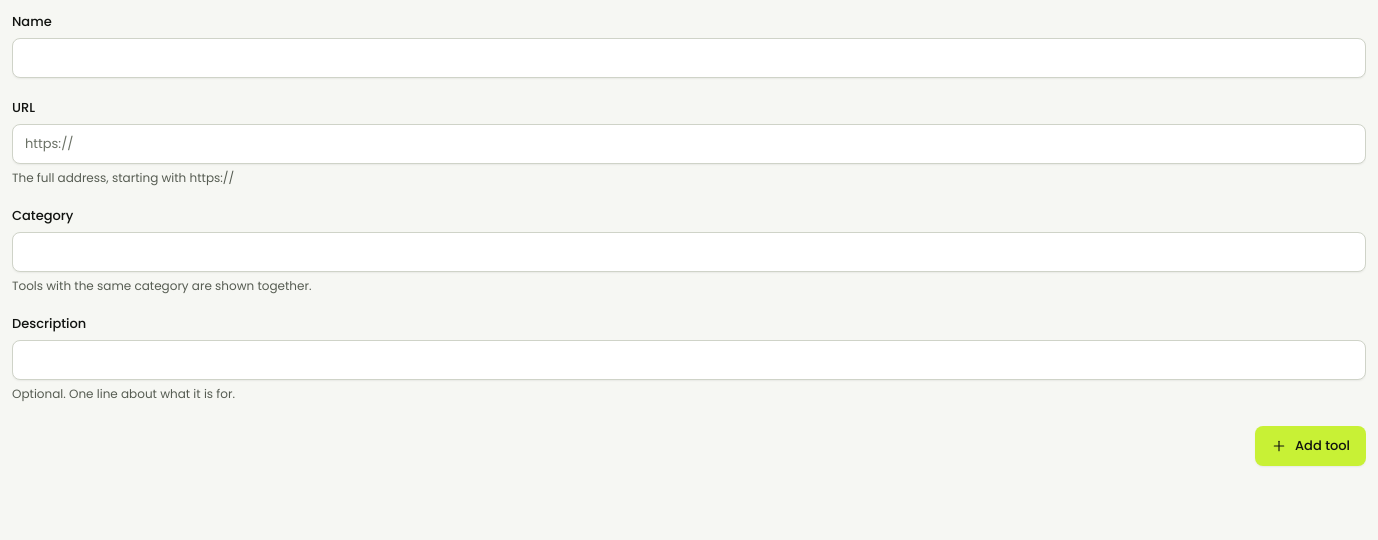
it: CreateToolForm › shows a general message when the failure is not about a field
Type "Payroll" into the field labelled "Name" at (689, 58), box x1=12 y1=38 x2=1366 y2=78
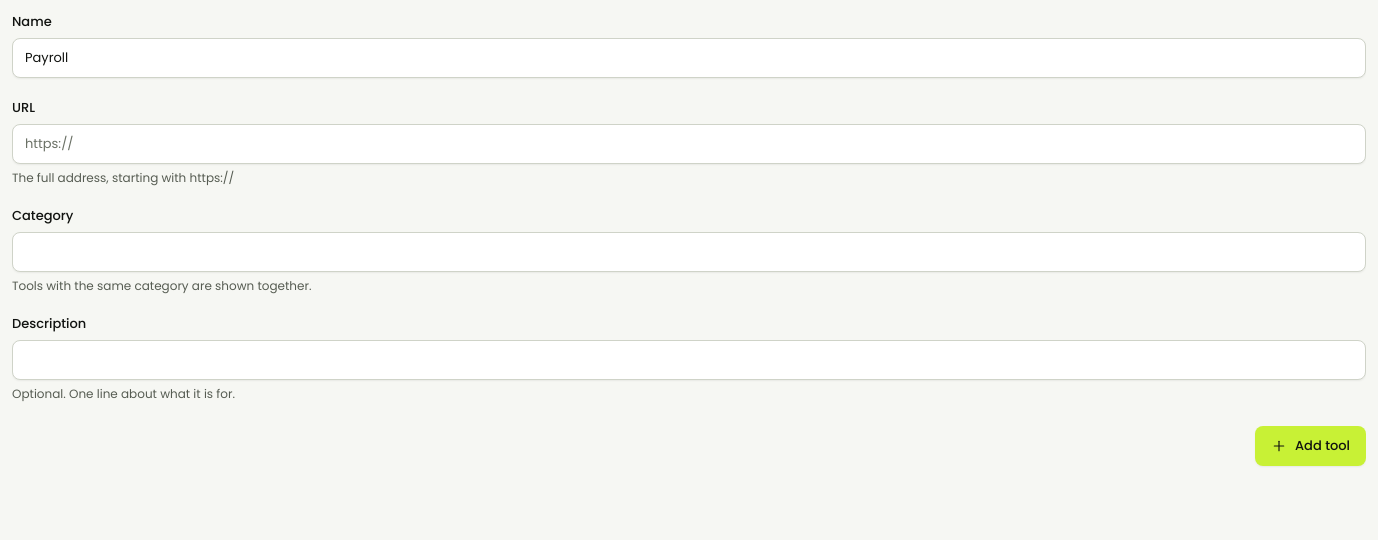
Type "https://payroll.example.com" into the field labelled "URL" at (689, 144), box x1=12 y1=124 x2=1366 y2=164
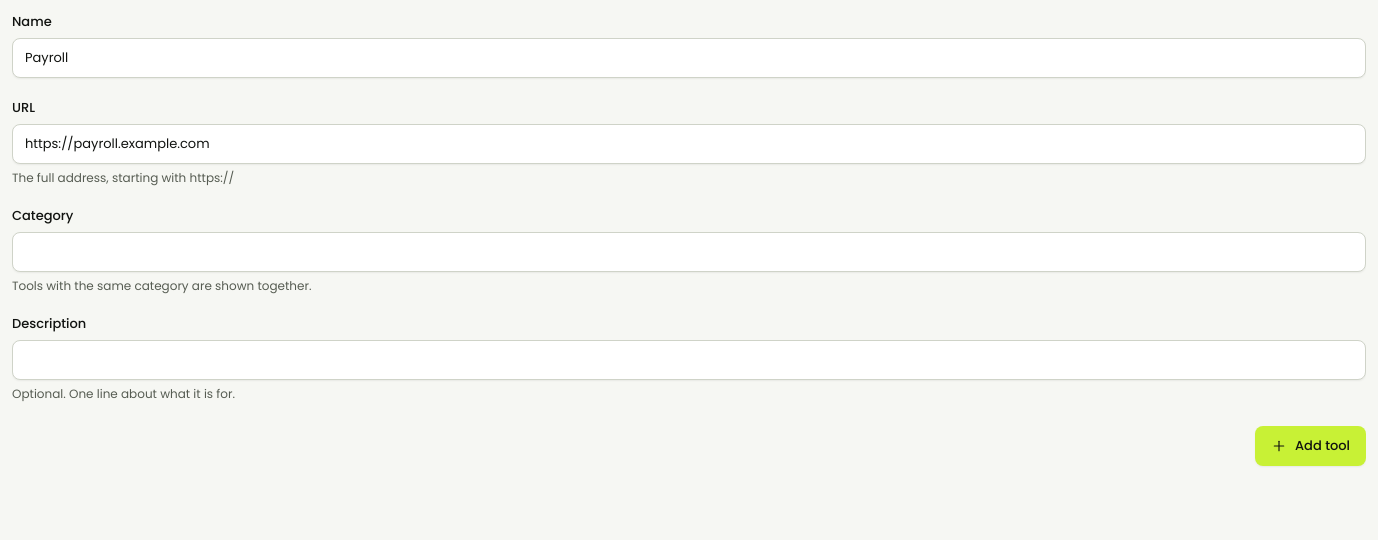
Type "Finance" into the field labelled "Category" at (689, 252), box x1=12 y1=232 x2=1366 y2=272
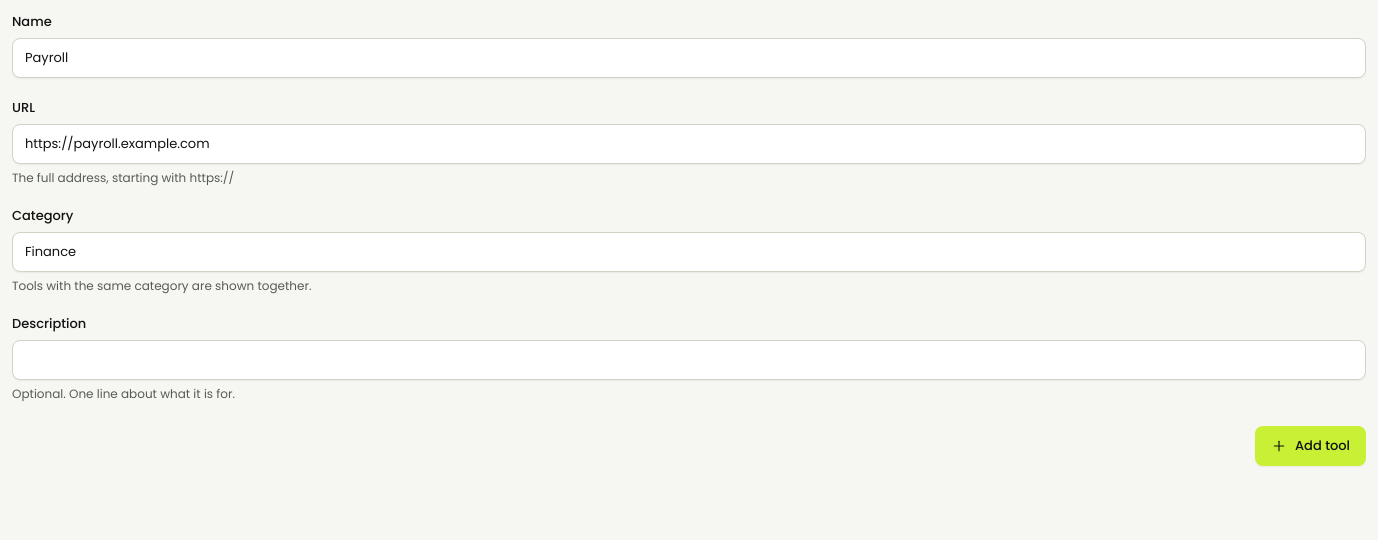
Click the button "Add tool" at (1311, 446), box x1=1255 y1=426 x2=1366 y2=466
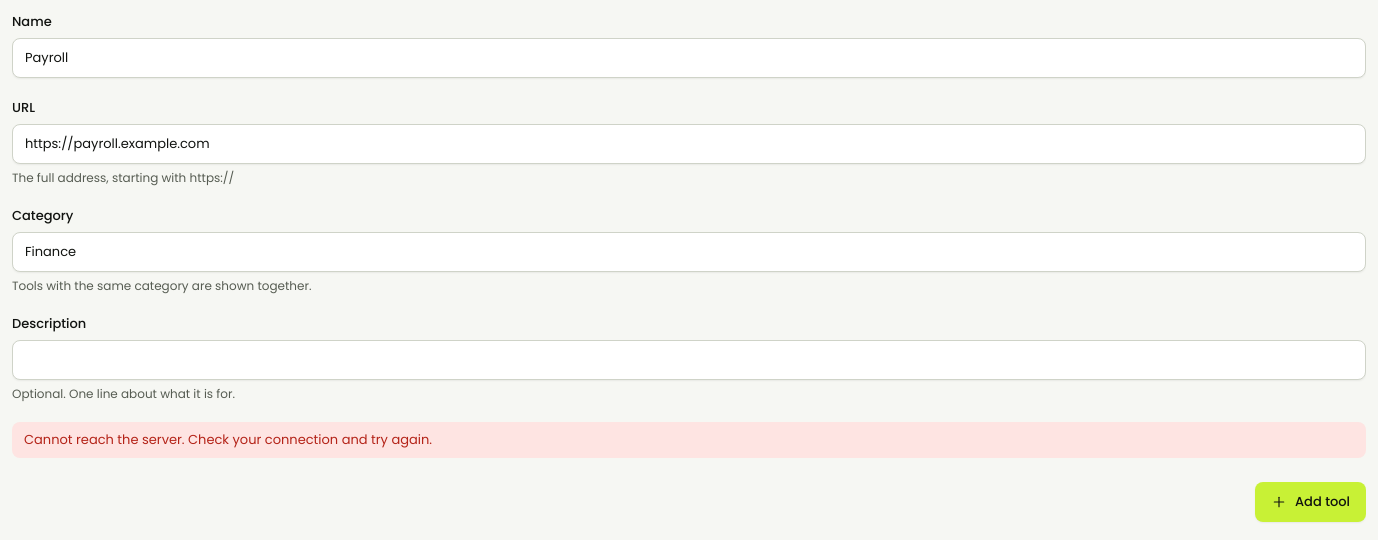
Expected: the message shows "Cannot reach the server", x1=24 y1=430 x2=432 y2=449
